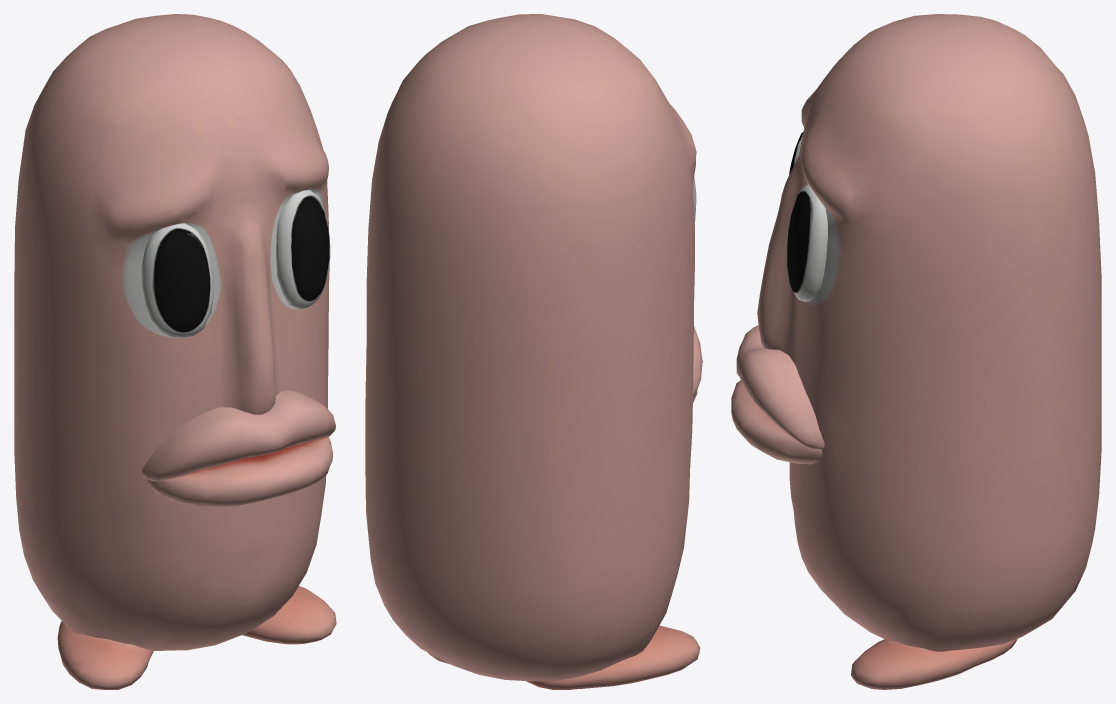
The model's file is asset_pack_item_glb-vd7d0dcraj58ycbcm7n9arqjjx8bztjr-10-ks70f0w2dh38nxvwwbxmk7gxsx8byshg.glb.
3 renders of one model, left to right at view 1: azimuth 30°, elevation 25°; view 2: azimuth 150°, elevation 25°; view 3: azimuth 270°, elevation 25°, orthographic. The views are drawn at different scales.
Parts seen in each view (by area): view 1: adult-tarako; view 2: adult-tarako; view 3: adult-tarako.
Boxes of the visible parts, x1=… form: adult-tarako: x1=14, y1=14, x2=336, y2=689; adult-tarako: x1=365, y1=14, x2=702, y2=689; adult-tarako: x1=731, y1=14, x2=1101, y2=689.
Bounding box in the file's own units: 0.4629 × 0.998 × 0.5566.
Materials: 1 (1 with a texture image).
